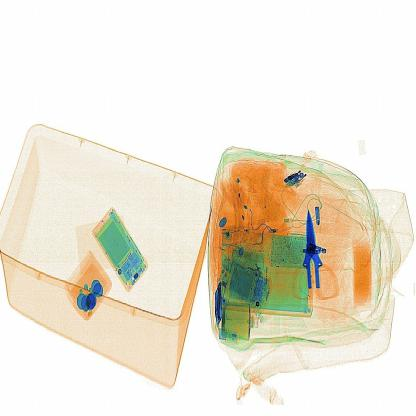gun: (288, 203, 356, 311)
